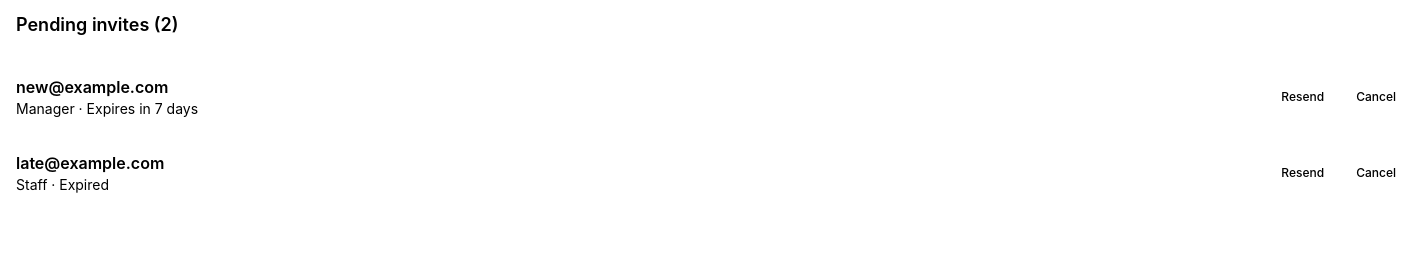
Test: InvitesCard › resends and cancels
Click the button with aria-label "Resend invite to late@example.com" at (1303, 173), box [1269,157,1336,189]
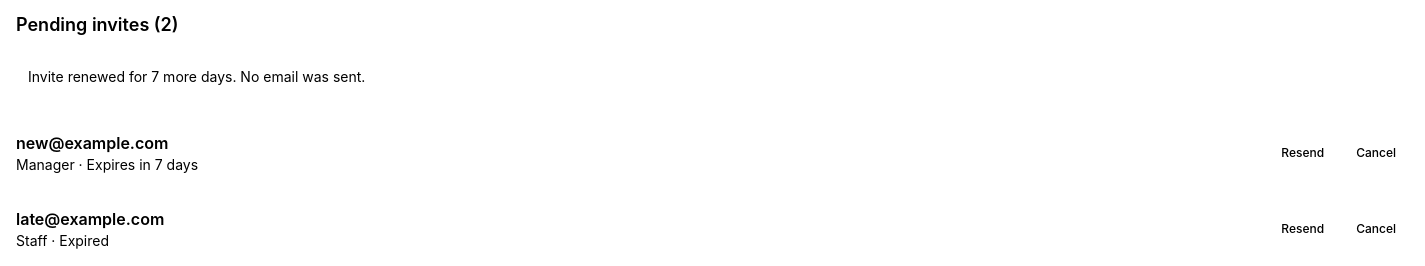
Now the text "Invite renewed for 7 more days. No email was sent." is shown, box [28,68,365,85]
Click the button with aria-label "Cancel invite to new@example.com" at (1376, 153), box [1344,137,1408,169]
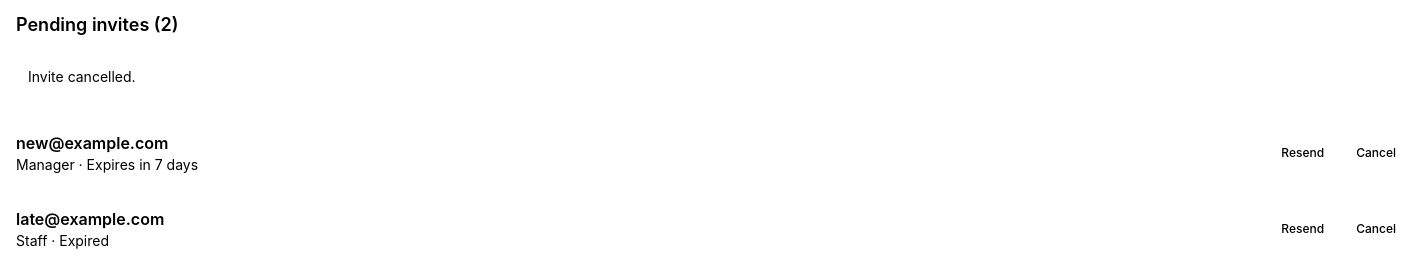
Now the text "Invite cancelled." is shown, box [28,68,136,85]
